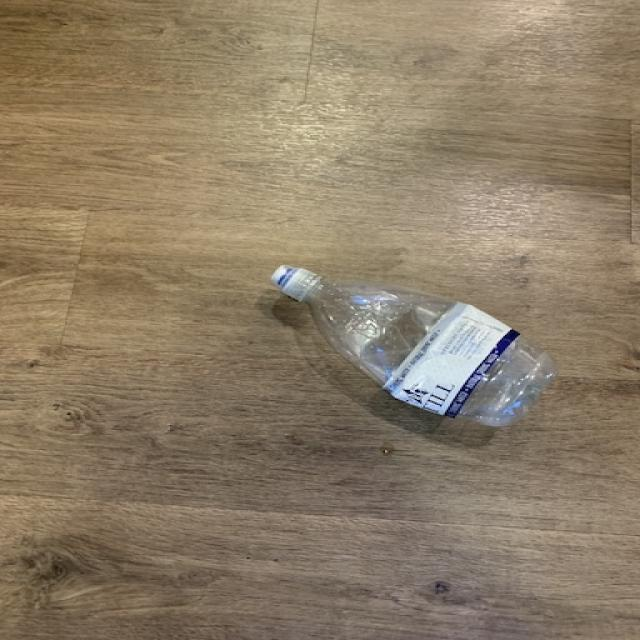litter: (265, 262, 563, 430)
